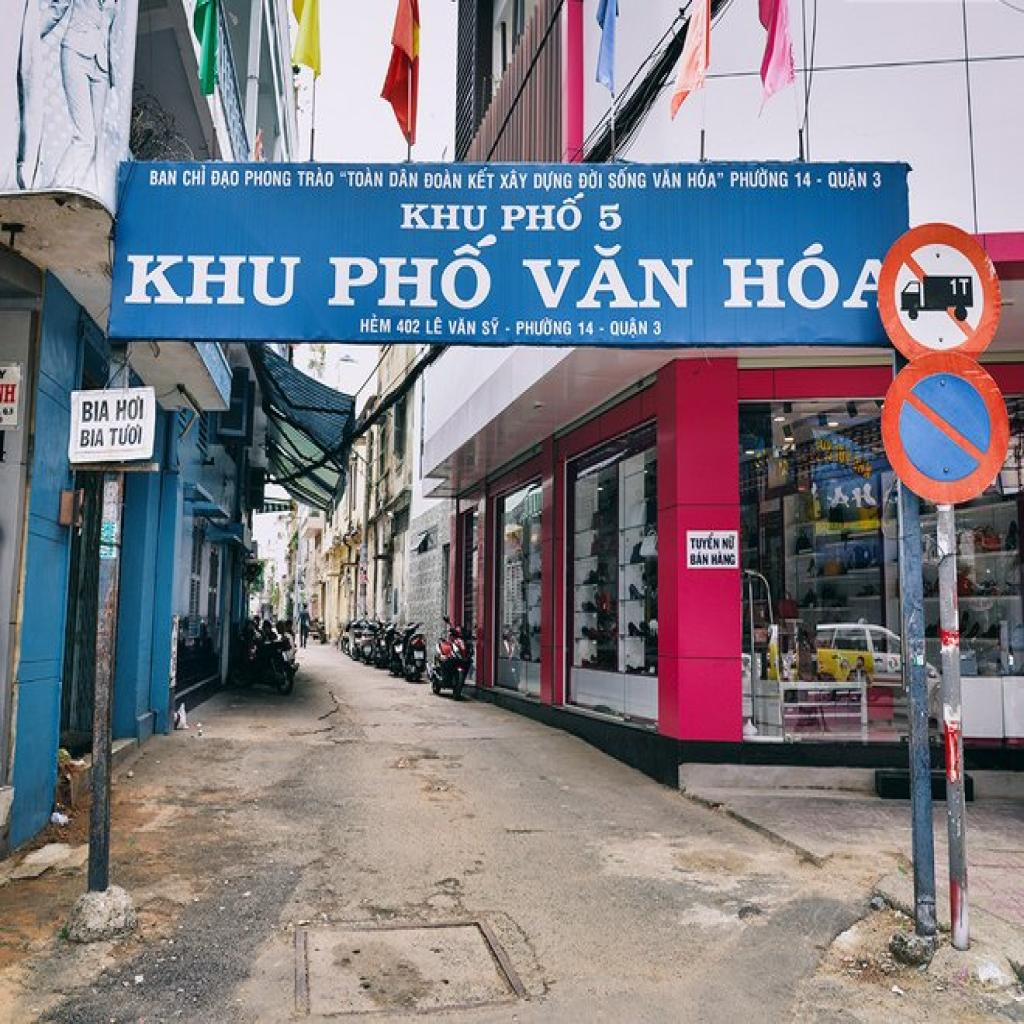text: (322, 234, 502, 314), (520, 240, 698, 311), (123, 254, 304, 309), (718, 244, 846, 309), (498, 192, 588, 235), (399, 202, 490, 232), (824, 478, 880, 515), (729, 165, 790, 190), (515, 313, 573, 336), (340, 164, 386, 190), (606, 165, 648, 192), (827, 167, 869, 194), (608, 315, 650, 342), (534, 169, 574, 194), (422, 167, 464, 190), (244, 169, 293, 188), (496, 165, 530, 192), (687, 167, 726, 190), (110, 422, 144, 448), (596, 204, 625, 234), (115, 396, 146, 424), (689, 530, 723, 554), (298, 166, 335, 188), (386, 167, 420, 190), (467, 165, 498, 190), (358, 313, 394, 334), (79, 400, 110, 424), (652, 167, 682, 190), (181, 164, 208, 188), (210, 169, 240, 190), (577, 167, 604, 190), (447, 317, 476, 338), (149, 169, 178, 188), (948, 276, 973, 298), (79, 428, 106, 448), (710, 550, 738, 568), (425, 313, 445, 338), (396, 317, 422, 336), (481, 315, 501, 338), (3, 382, 19, 406), (576, 319, 596, 338), (794, 171, 813, 190), (721, 532, 737, 553), (689, 551, 710, 567), (872, 171, 883, 190)
